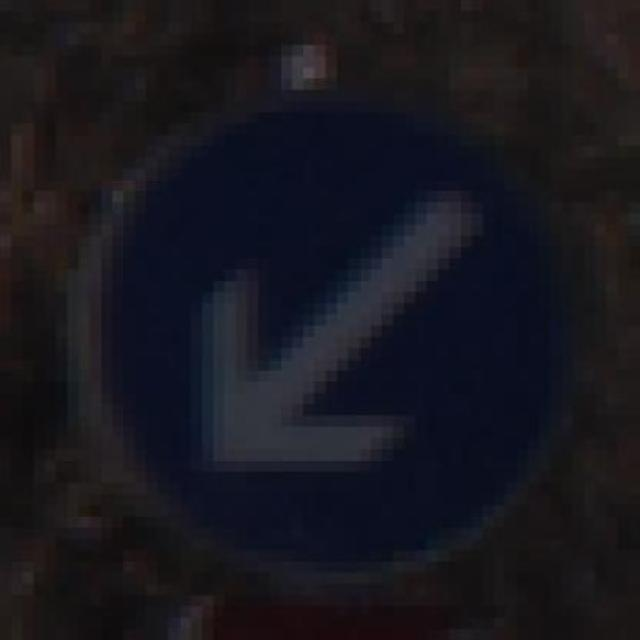Keep-Left: (68, 45, 595, 618)
